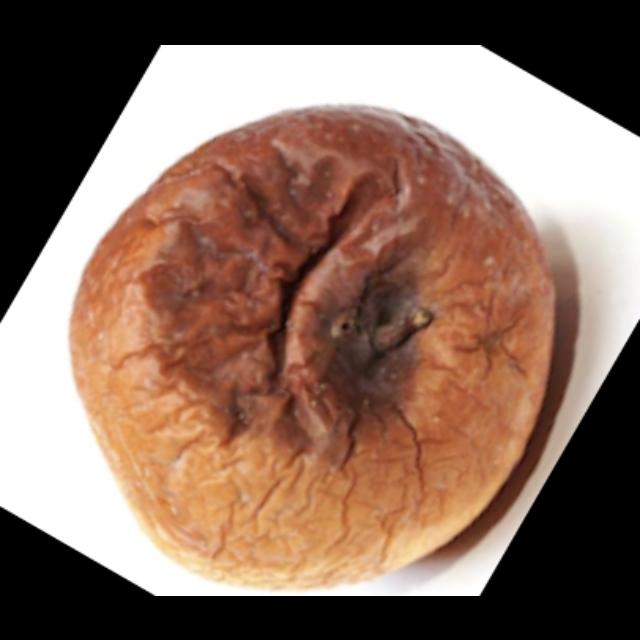Apel Tidak Segar: (57, 93, 581, 595)
